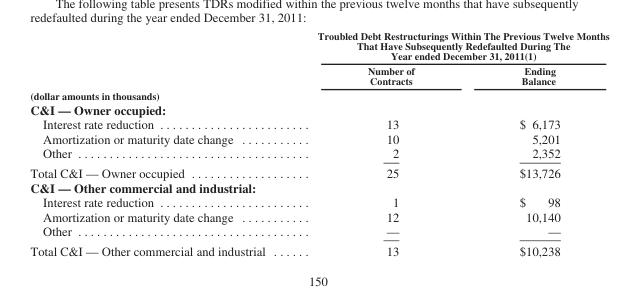table: (29, 29, 608, 257)
table column: (29, 29, 290, 257), (290, 29, 466, 257), (466, 29, 608, 257)
table column header: (29, 29, 608, 88)
table projected row header: (29, 101, 608, 116), (29, 179, 608, 194), (29, 88, 608, 101)
table row: (29, 29, 608, 62), (29, 62, 608, 88), (29, 145, 608, 162), (29, 162, 608, 179), (29, 223, 608, 240), (29, 240, 608, 257), (29, 101, 608, 116), (29, 116, 608, 131), (29, 179, 608, 194), (29, 208, 608, 223), (29, 131, 608, 145), (29, 194, 608, 208), (29, 88, 608, 101)
table spanning cell: (290, 29, 608, 62)
